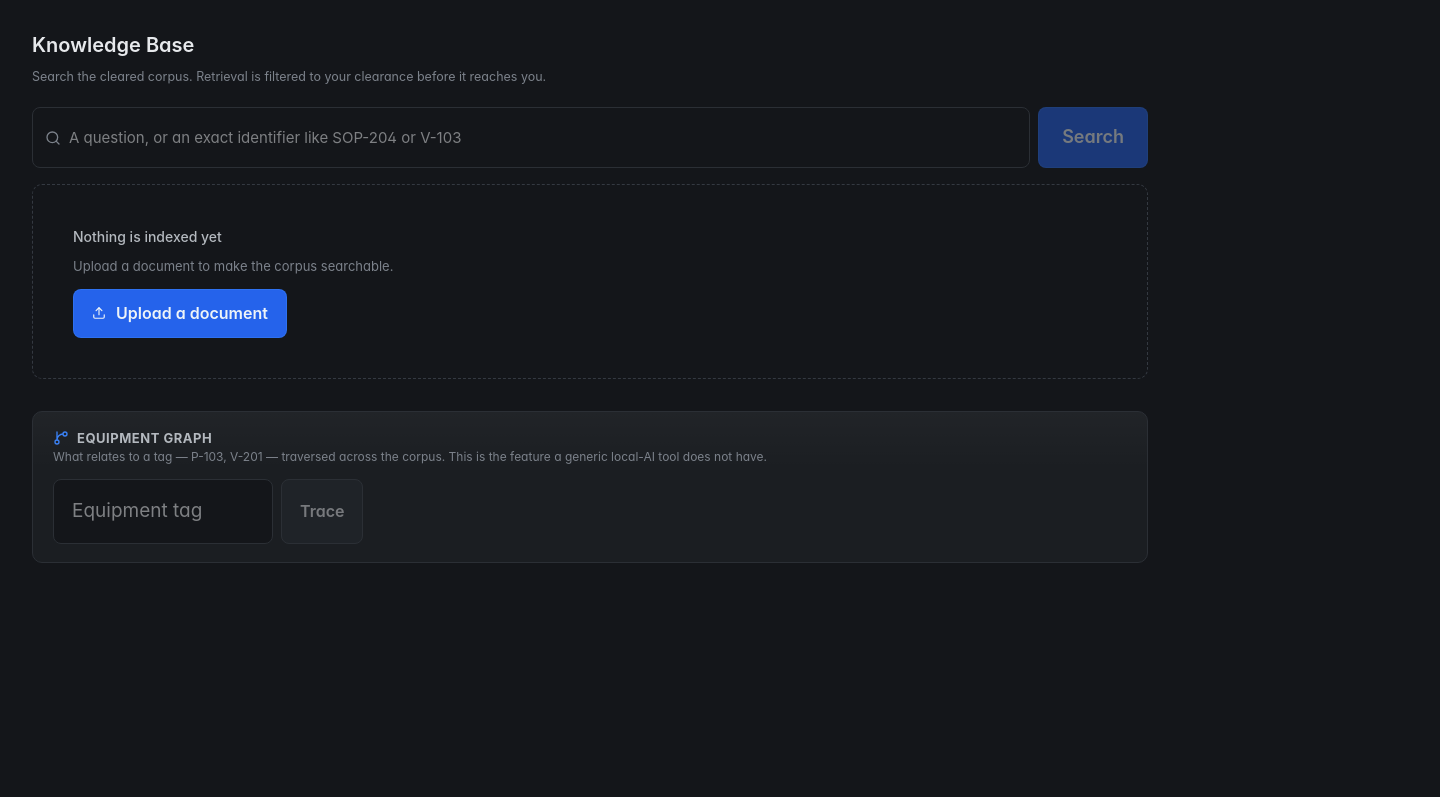
Scenario: asking for access › turns a 403 on the knowledge base into somewhere to ask
Type "isolation procedure" into the field with placeholder "A question, or an exact identifier like SOP-204 or V-103". click: x=543, y=138
box: [69,112,1017,163]
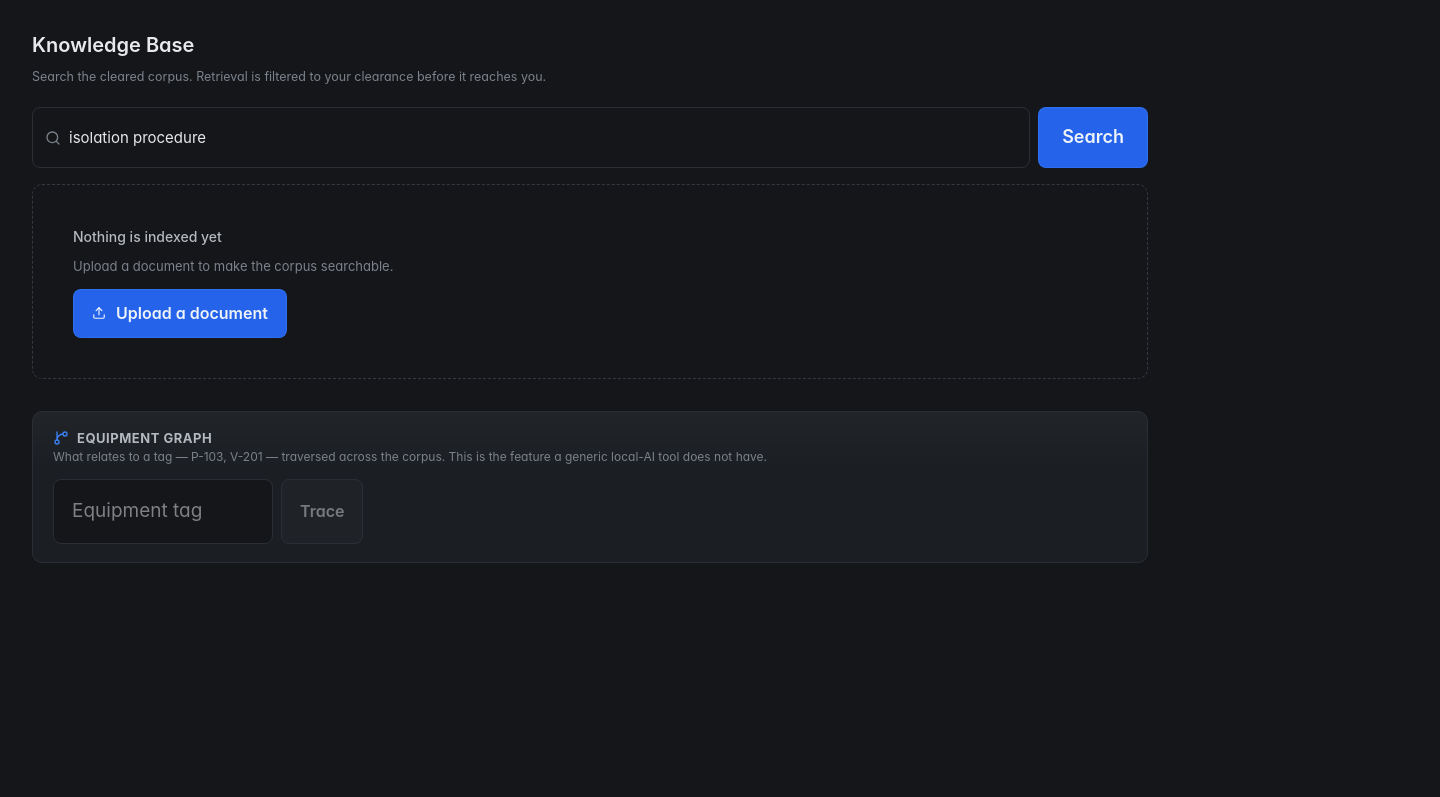
Click the button "Search". click: x=1093, y=138
box: [1038,107,1148,168]
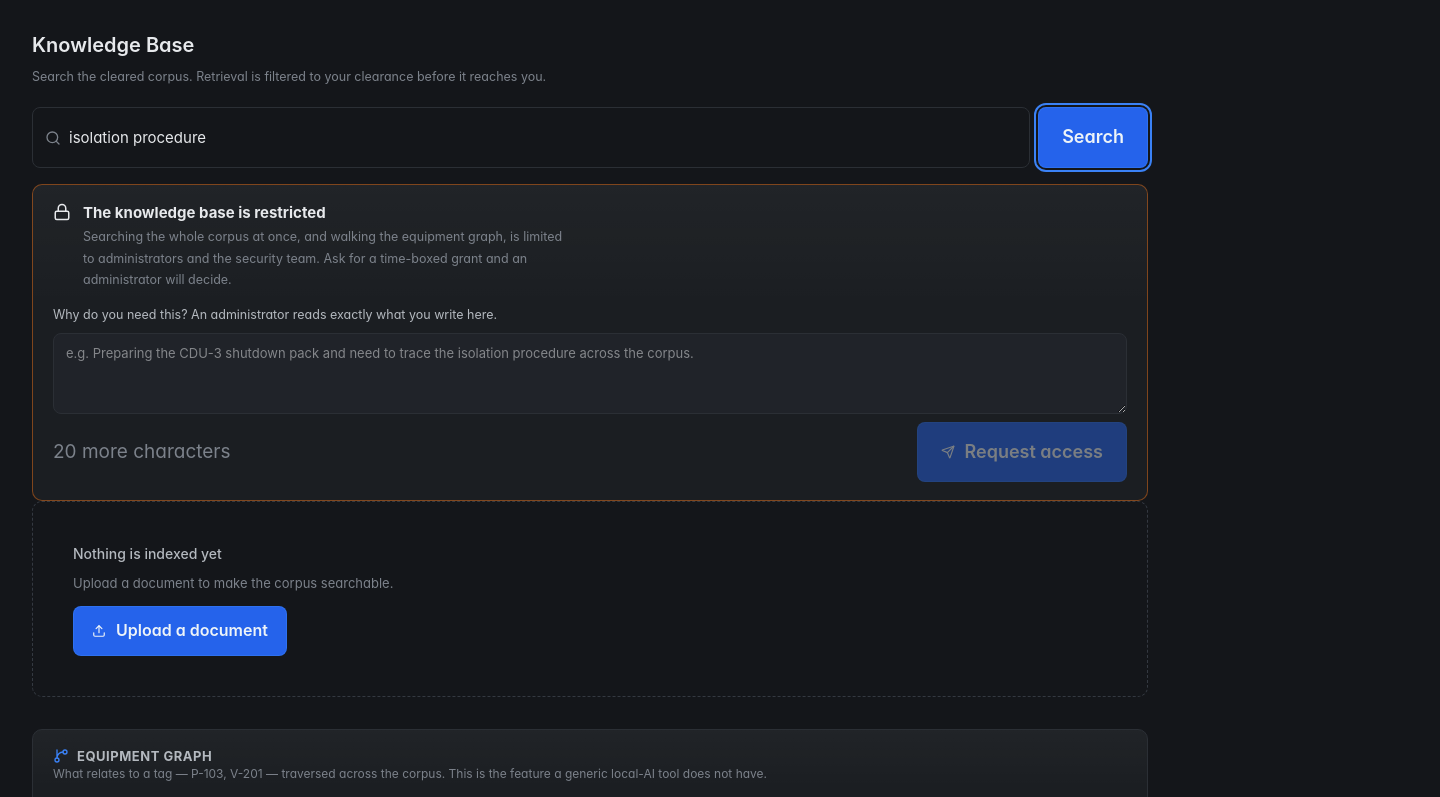
Result: the heading "The knowledge base is restricted" is shown at [83,203,326,222]
